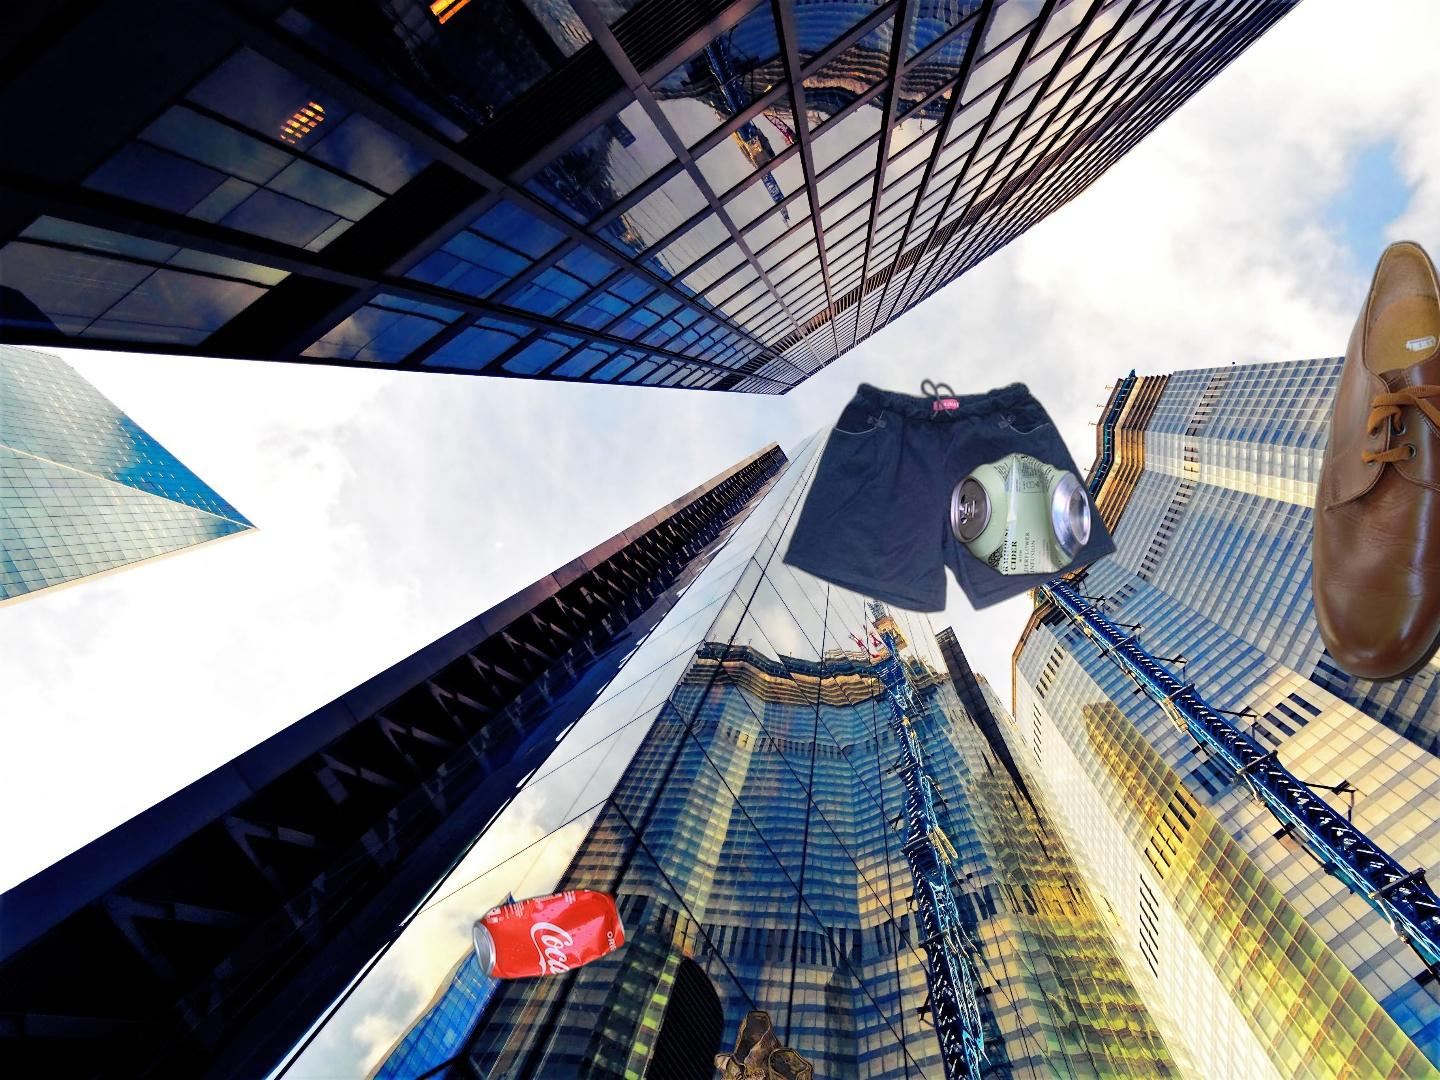clothes: (778, 371, 1121, 618)
metal-cans: (211, 638, 723, 1080), (946, 446, 1096, 582)
shoes: (1308, 222, 1440, 687), (704, 1009, 836, 1080)
